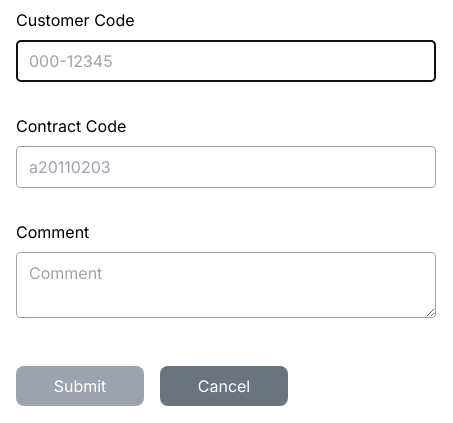
it: FormContent › enables submit button after required fields are filled
Type "500-11235" into the field labelled "Customer Code" at (226, 61), box [16,40,436,82]
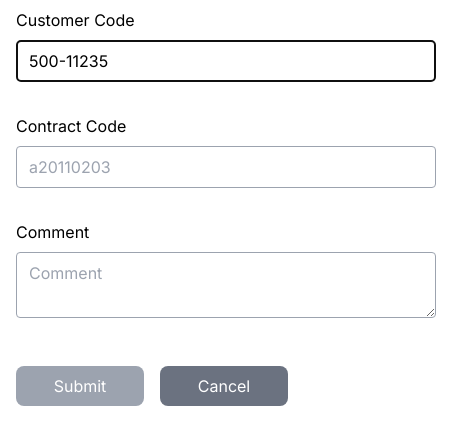
Type "c20230614" into the field labelled "Contract Code" at (226, 167), box [16,146,436,188]
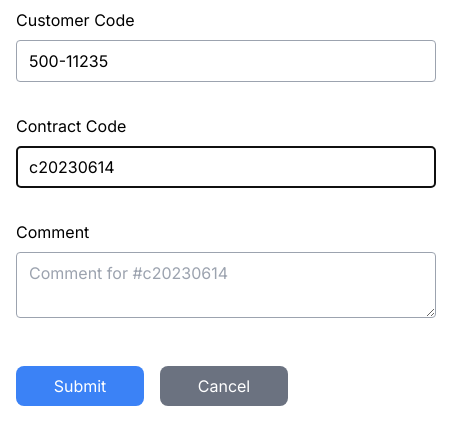
Expected: the button "Submit" is enabled, [16,366,144,406]
